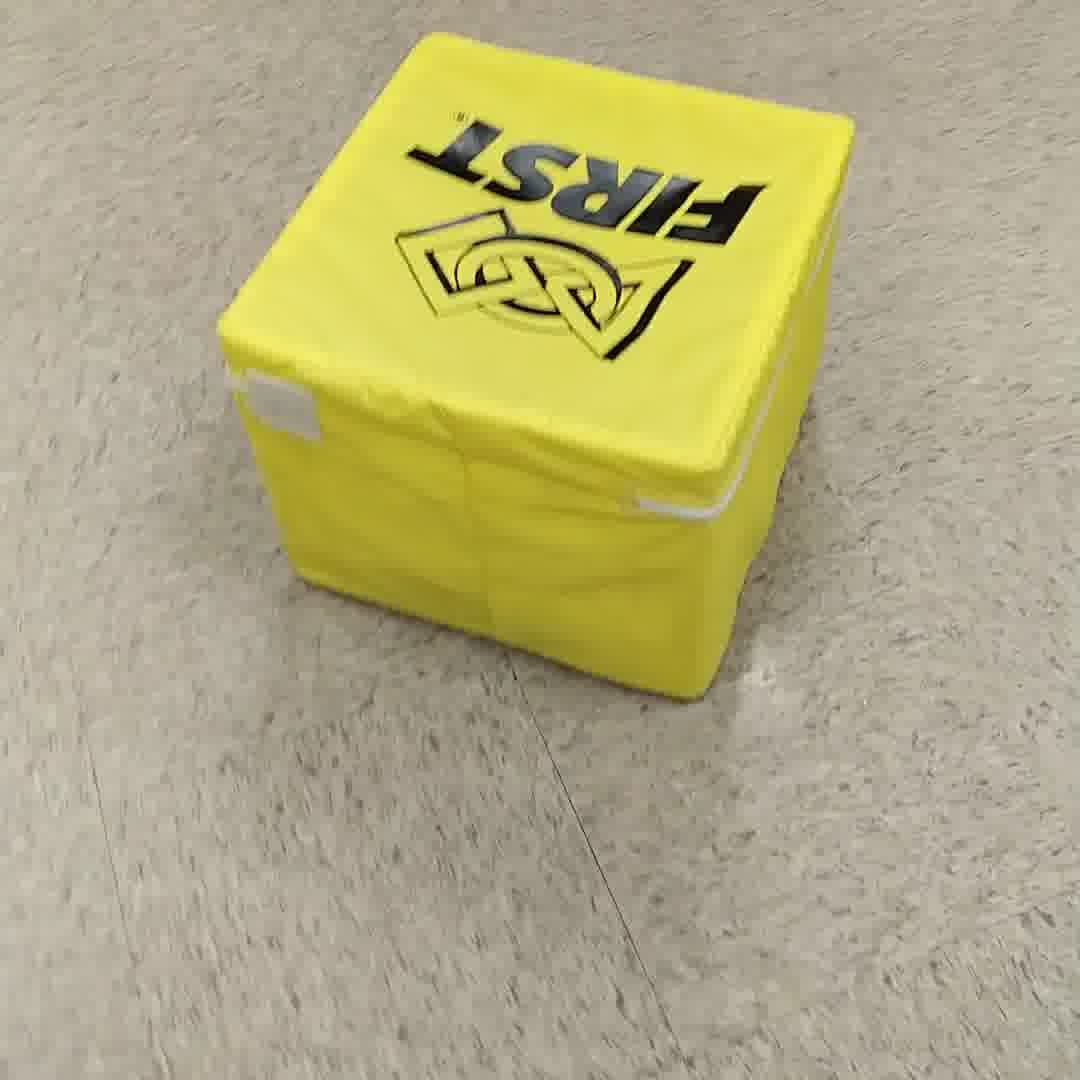box: (204, 20, 859, 701)
